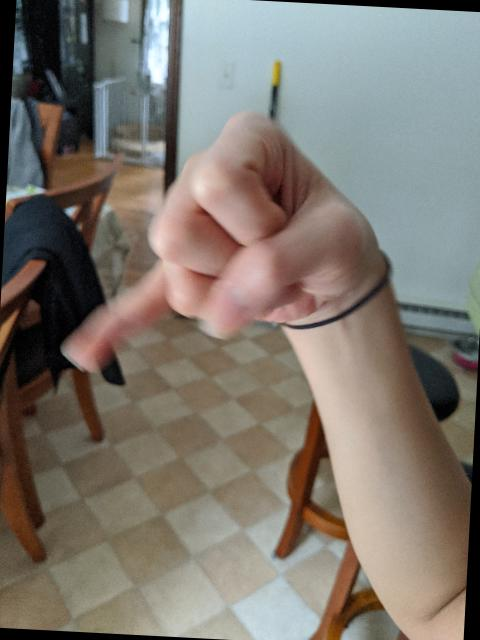J: (52, 90, 402, 398)
